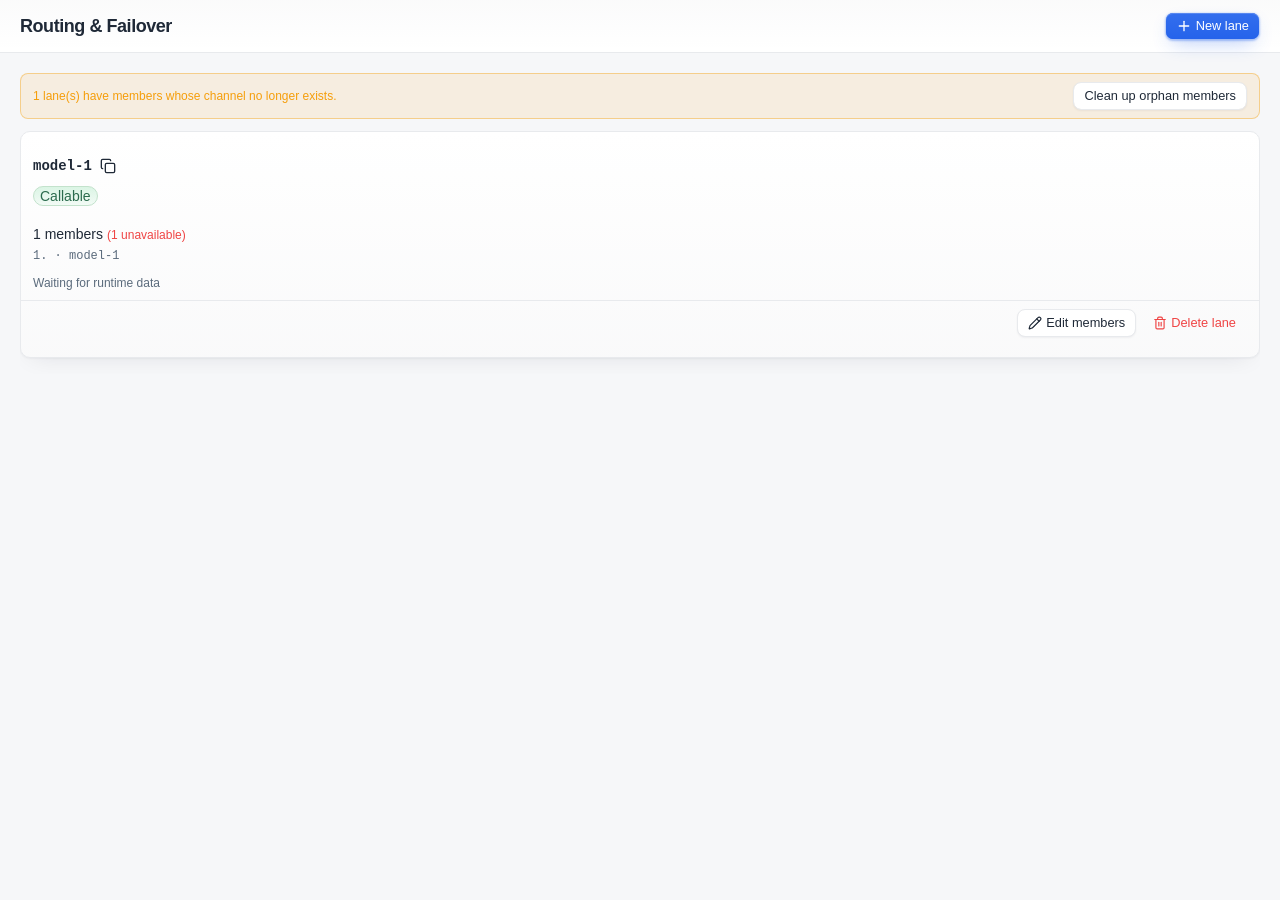
Test: 路由与故障切换页 › 悬空成员给出清理入口
This screenshot has width=1280, height=900.
Click the button "Clean up orphan members": click(1160, 96) [1074, 82, 1247, 110]
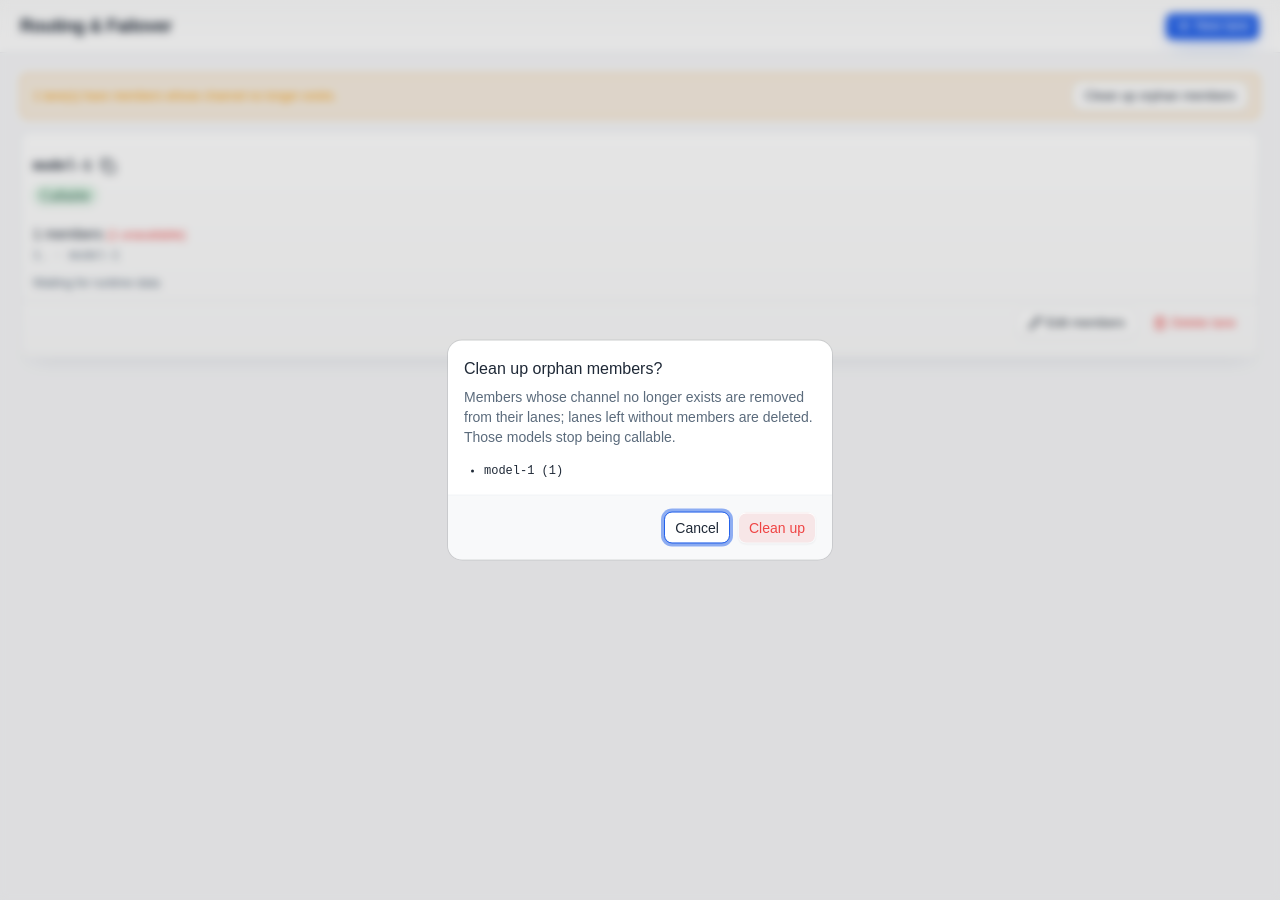
Now the list item "model-1 (1)" is shown, box [484, 464, 563, 478]
